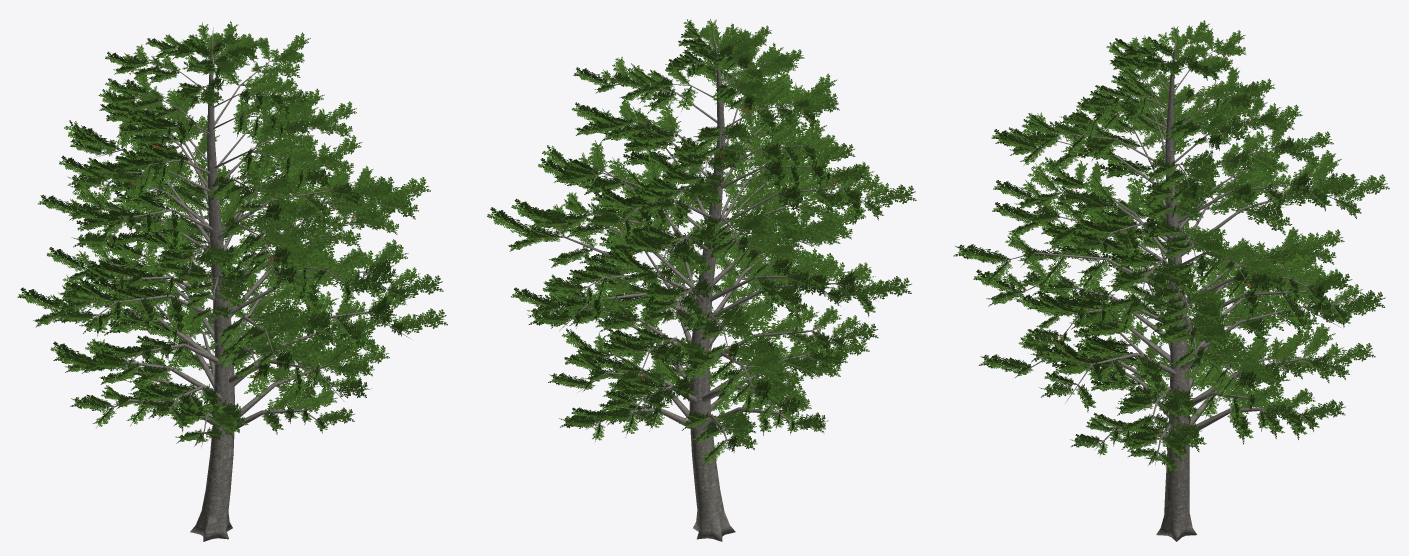
File: rowan.glb
The picture shows the model from 3 angles, left to right: view 1: azimuth 30°, elevation 25°; view 2: azimuth 150°, elevation 25°; view 3: azimuth 270°, elevation 25°; orthographic projection.
Visible parts, largest first — view 1: Rowan; view 2: Rowan; view 3: Rowan.
Boxes of the visible parts, box(x1,y1,x2,y2) form: Rowan: box(17, 21, 447, 541); Rowan: box(487, 19, 916, 541); Rowan: box(953, 20, 1389, 541).
Size of the model in its own units: 8 by 9.72 by 7.85.
3 materials, 3 textured.
